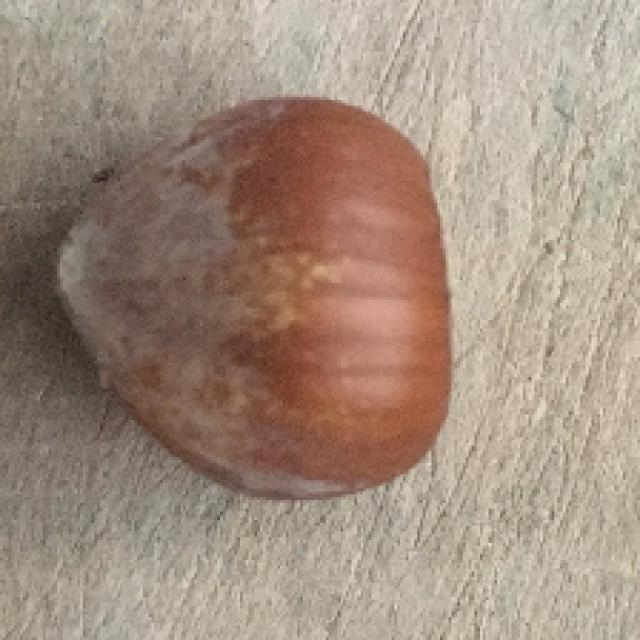qualityHazelnut: (56, 96, 465, 503)
